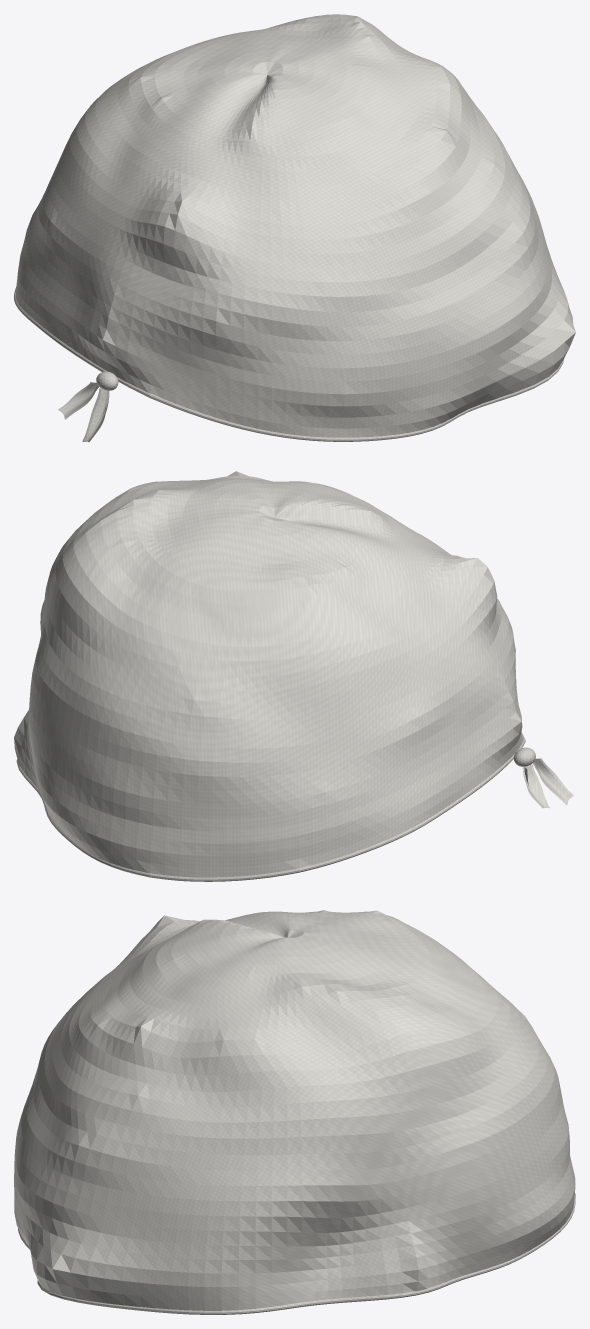
Rendered from side_shipmaster_headcloth.glb.
The picture shows the model from 3 angles, top to bottom: view 1: azimuth 30°, elevation 25°; view 2: azimuth 150°, elevation 25°; view 3: azimuth 270°, elevation 25°; orthographic projection. The views are drawn at different scales.
Parts seen in each view (by area): view 1: woven_cloth, folded_edge, wrap_ties; view 2: woven_cloth, folded_edge, wrap_ties; view 3: woven_cloth, folded_edge.
Part boxes in pixels (x1,y1,x2,y2): woven_cloth: [15, 14, 575, 437]; folded_edge: [14, 287, 564, 441]; wrap_ties: [58, 382, 109, 442]; woven_cloth: [14, 471, 523, 877]; folded_edge: [16, 733, 535, 881]; wrap_ties: [522, 758, 573, 808]; woven_cloth: [14, 910, 575, 1310]; folded_edge: [18, 1193, 575, 1314].
Bounding box in the file's own units: 20.86 × 11.7 × 20.32.
Materials: 4 (4 with a texture image).
